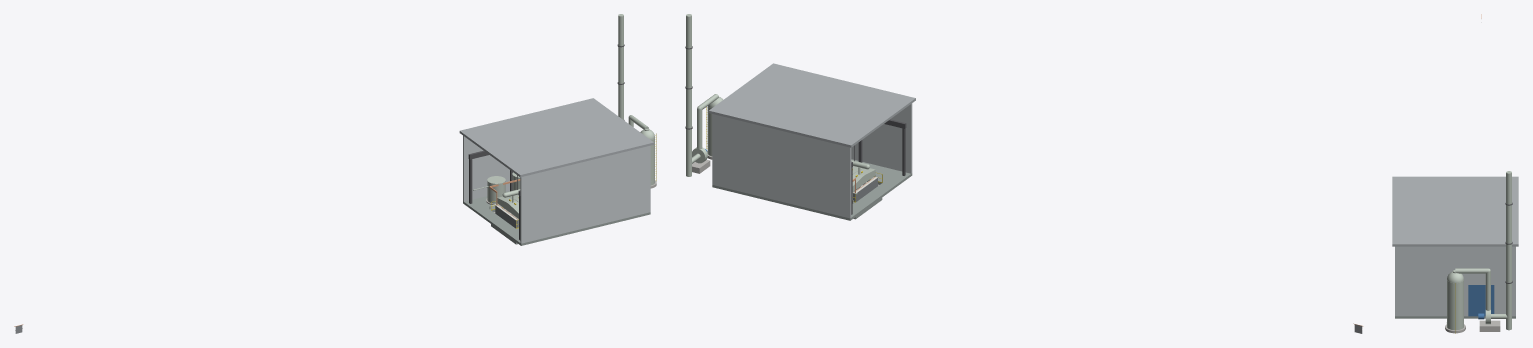
The model's file is SM_LiberatorCells.fbx.
3 views of the same model, side by side, from view 1: azimuth 30°, elevation 25°; view 2: azimuth 150°, elevation 25°; view 3: azimuth 270°, elevation 25° (orthographic). The views are drawn at different scales.
Parts seen in each view (by area): view 1: LC_AnnexShell, LC_FloorPit, LC_Exhaust, LC_TanksRectifier; view 2: LC_AnnexShell, LC_Exhaust, LC_FloorPit, LC_CraneRunway; view 3: LC_AnnexShell, LC_Exhaust, LC_FloorPit.
Part boxes in pixels (x1=…): LC_AnnexShell: x1=459, y1=98, x2=653, y2=243; LC_FloorPit: x1=463, y1=190, x2=650, y2=245; LC_Exhaust: x1=502, y1=14, x2=656, y2=197; LC_TanksRectifier: x1=473, y1=172, x2=520, y2=209; LC_AnnexShell: x1=708, y1=63, x2=915, y2=218; LC_Exhaust: x1=685, y1=14, x2=869, y2=176; LC_FloorPit: x1=712, y1=159, x2=912, y2=220; LC_CraneRunway: x1=851, y1=119, x2=906, y2=214; LC_AnnexShell: x1=1392, y1=176, x2=1518, y2=316; LC_Exhaust: x1=1445, y1=171, x2=1512, y2=333; LC_FloorPit: x1=1395, y1=316, x2=1515, y2=318.
Size of the model in its own units: 8754 by 2210 by 1460.
